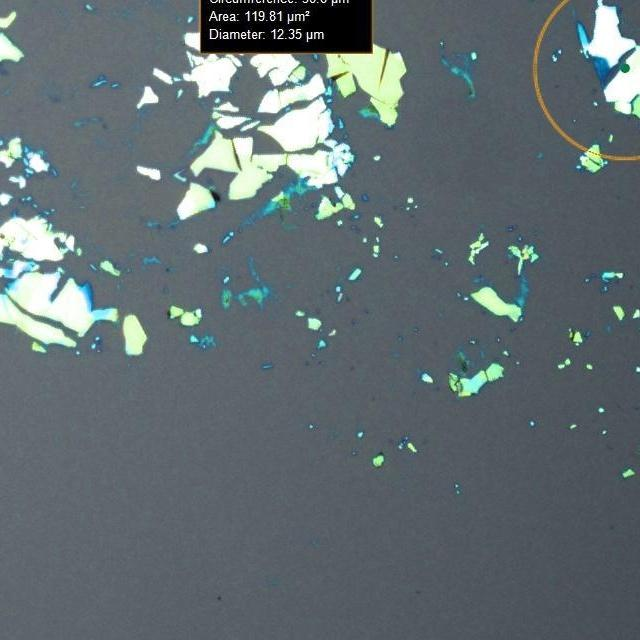monolayer-eWW4: (604, 47, 636, 86)
